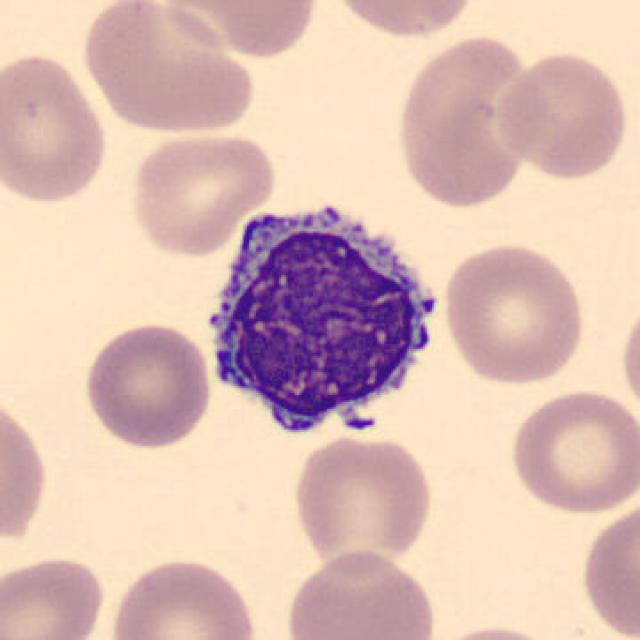Lymphocyte: (190, 187, 455, 453)
RBC: (391, 30, 541, 212), (78, 0, 260, 136), (439, 238, 590, 388), (288, 430, 436, 571), (126, 127, 279, 259), (491, 47, 633, 182), (78, 319, 215, 451), (0, 48, 112, 208), (505, 386, 638, 517), (281, 546, 441, 640), (104, 553, 261, 640), (156, 0, 324, 62), (0, 552, 108, 640), (576, 495, 638, 640), (0, 388, 52, 555), (324, 0, 484, 41), (617, 291, 640, 421), (423, 620, 563, 640)
